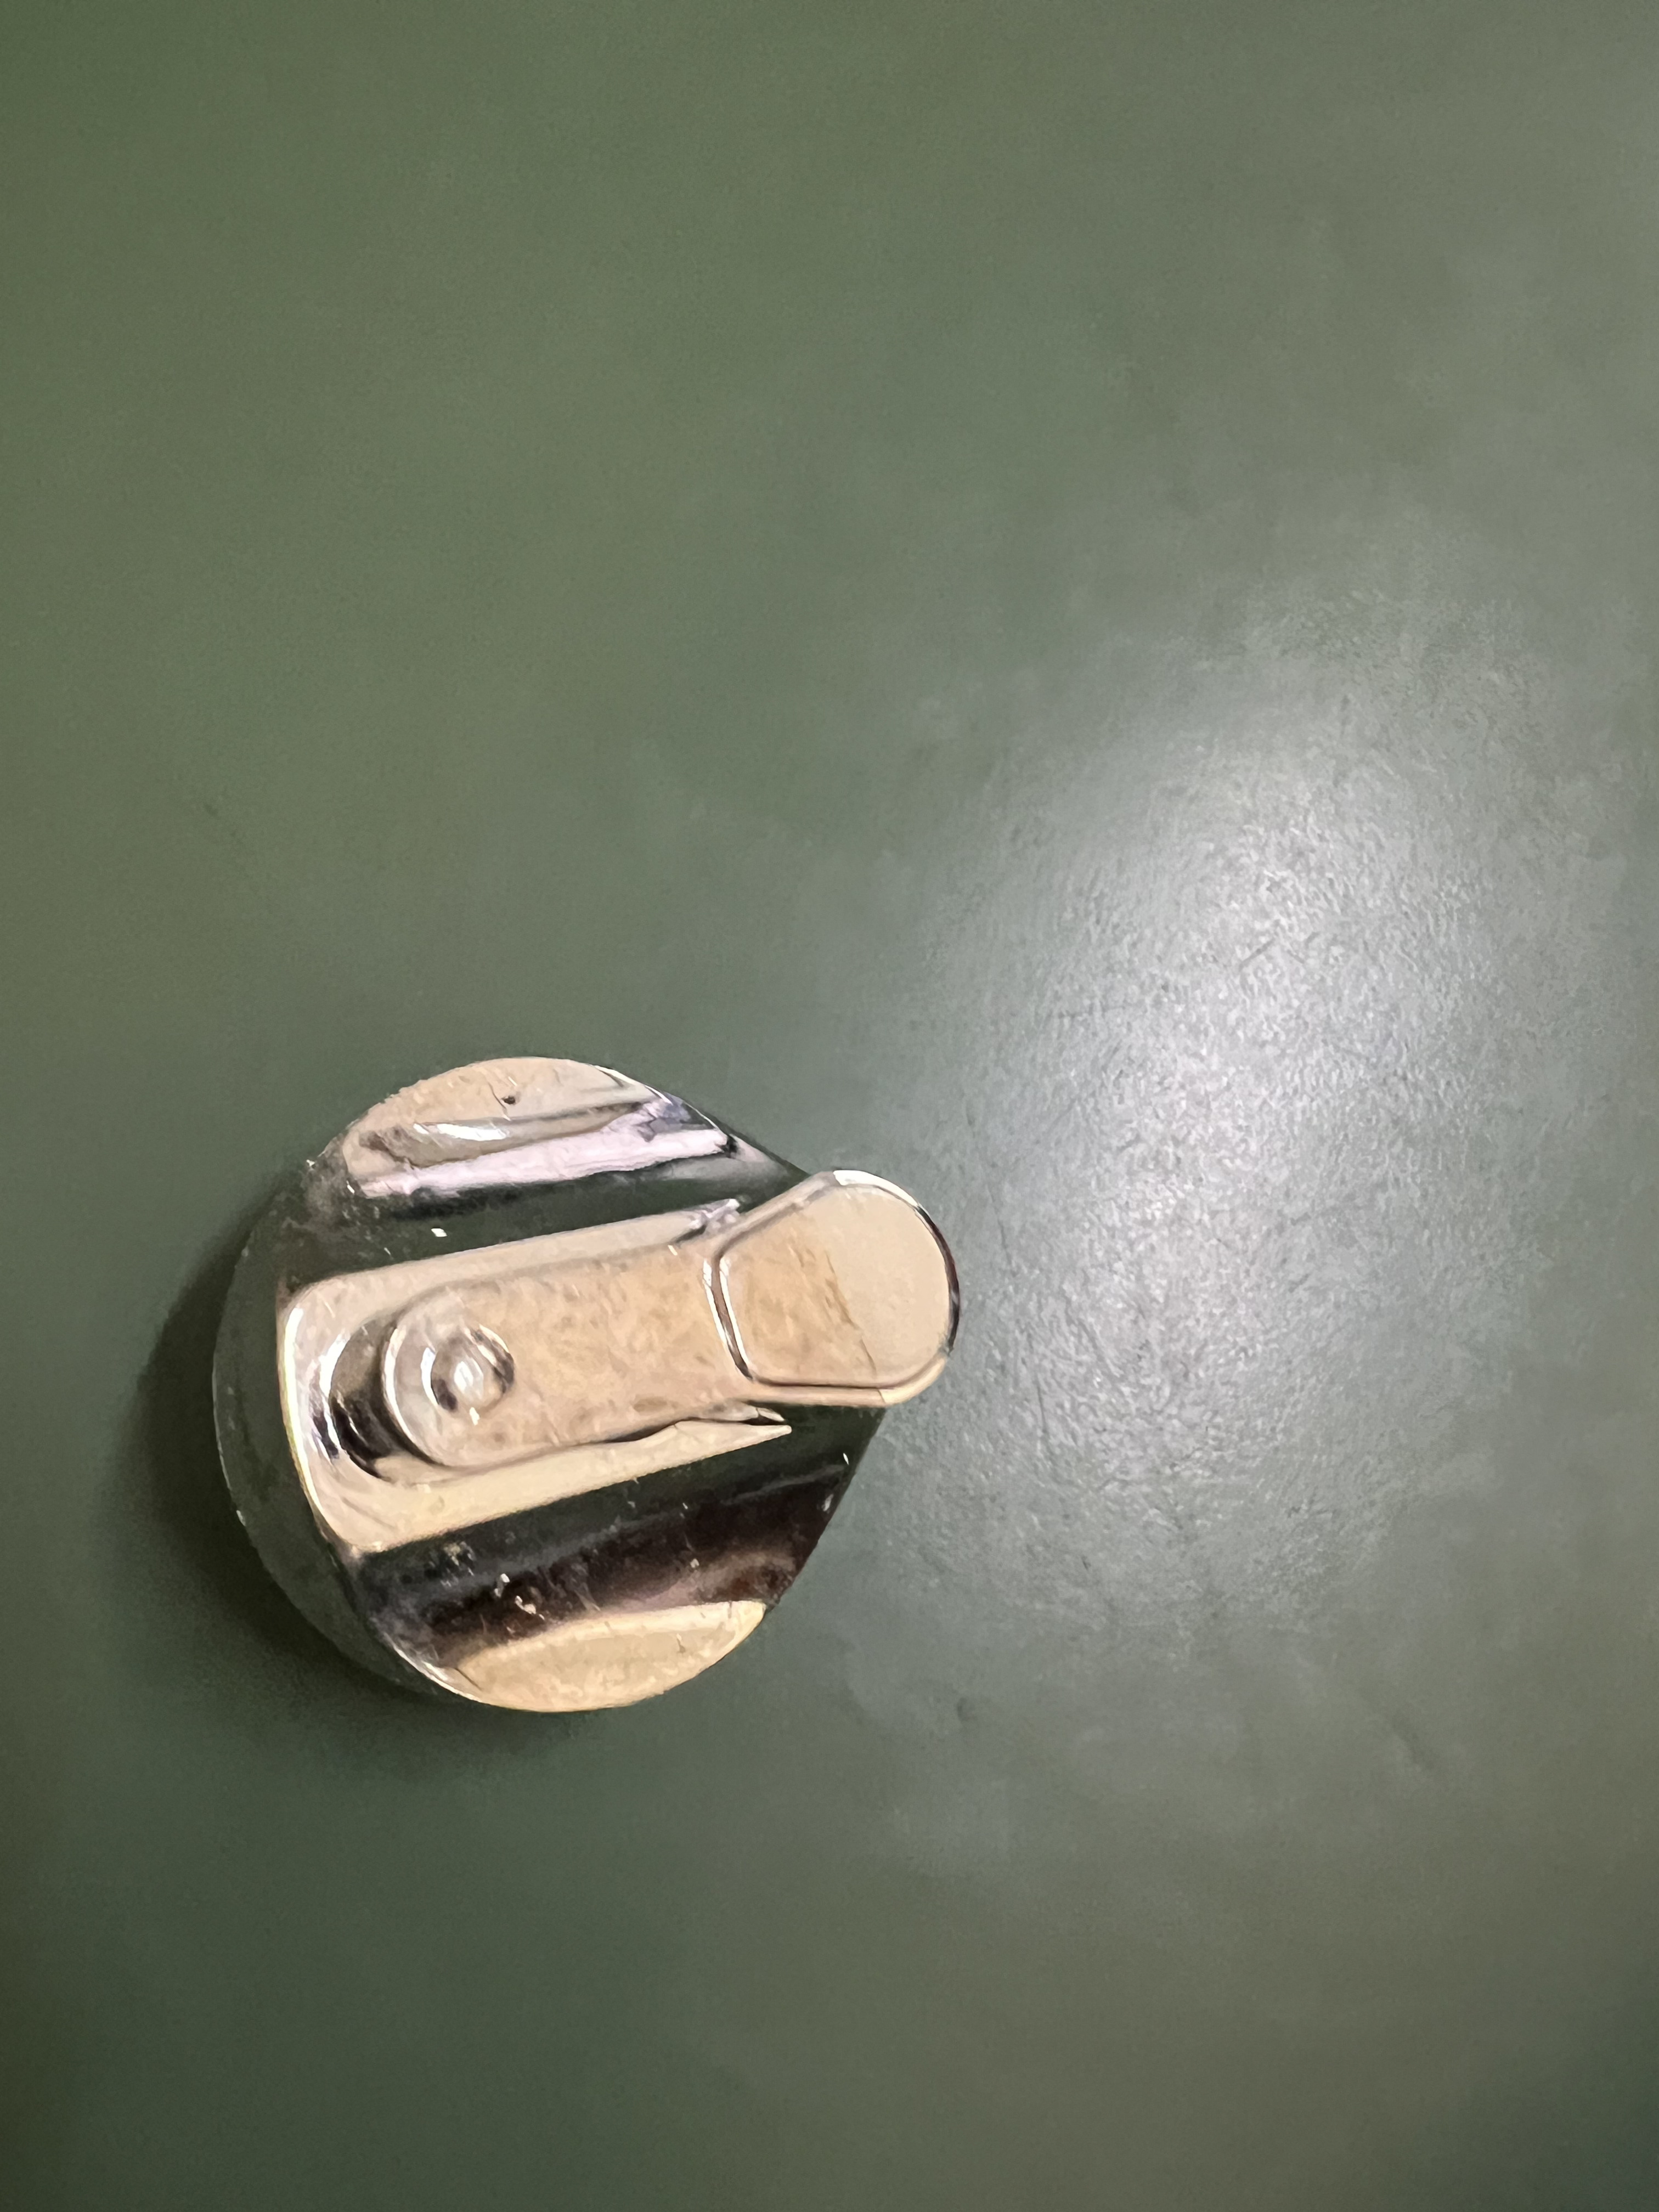regulator: (232, 1055, 997, 1766)
